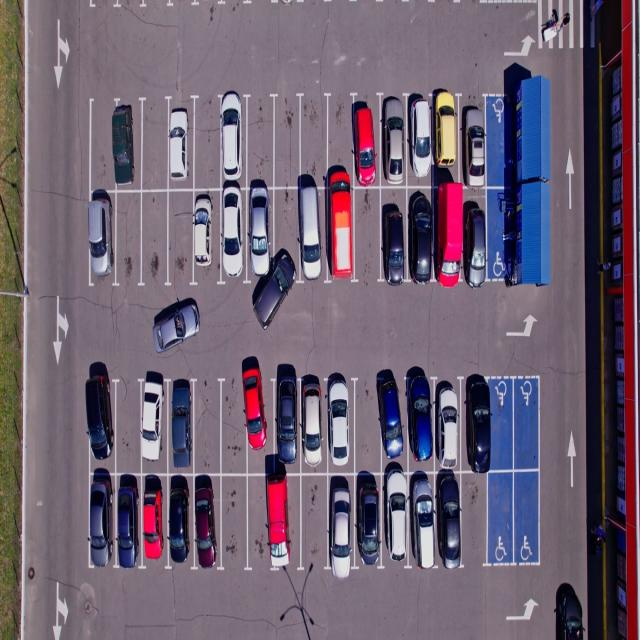space-empty: (298, 472, 330, 574), (138, 191, 171, 286), (114, 378, 146, 475), (192, 378, 224, 473), (192, 97, 224, 192), (139, 98, 171, 192), (218, 378, 249, 474), (114, 190, 145, 285), (352, 375, 382, 472), (168, 188, 198, 284), (351, 187, 381, 279), (247, 96, 277, 187), (327, 98, 357, 188), (271, 188, 301, 277), (219, 475, 247, 570), (514, 471, 543, 562), (486, 471, 514, 564), (462, 471, 490, 564), (247, 473, 273, 572), (298, 96, 326, 187), (273, 96, 301, 186), (515, 378, 542, 470), (489, 378, 514, 475), (92, 98, 116, 193)
space-occupied: (268, 471, 302, 573), (245, 372, 278, 472), (112, 94, 146, 190), (168, 94, 200, 190), (326, 374, 358, 470), (191, 473, 223, 568), (84, 375, 115, 472), (325, 474, 356, 571), (431, 183, 462, 280), (350, 471, 381, 567), (168, 378, 199, 473), (140, 378, 170, 476), (216, 187, 247, 281), (190, 189, 221, 282), (378, 474, 409, 566), (296, 186, 327, 278), (85, 191, 115, 286), (298, 375, 328, 470), (272, 374, 301, 472), (218, 96, 248, 190), (432, 375, 462, 469), (406, 92, 436, 184), (326, 186, 356, 278), (407, 185, 436, 280), (246, 186, 276, 277), (140, 472, 169, 566), (378, 375, 406, 472), (406, 374, 434, 469), (432, 470, 460, 564), (378, 186, 406, 280), (352, 96, 381, 186), (169, 476, 196, 572), (115, 472, 143, 564), (462, 188, 487, 291), (465, 378, 492, 473), (432, 94, 460, 184), (379, 97, 407, 187), (87, 474, 114, 564), (410, 471, 436, 564), (465, 96, 488, 186)
